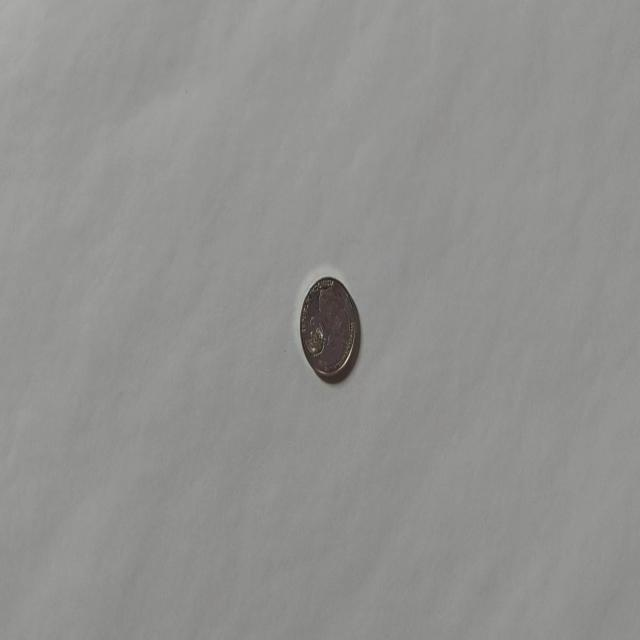dua ratus rupiah: (298, 274, 358, 382)
